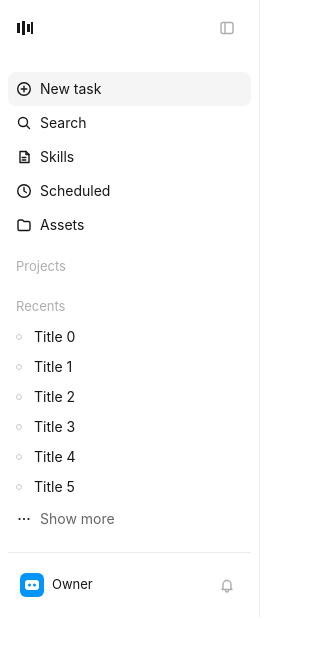
Sidebar › shows six recents, then all after Show more (STORY_021)
This screenshot has width=320, height=660.
Expected: the number of links "Title 0" is 6, [16,328,75,345]; [16,358,72,375]; [16,388,75,405]; [16,418,75,435]; [16,448,76,465]; [16,478,75,495]
Click the button "Show more" at [130, 519], box [8,502,251,536]
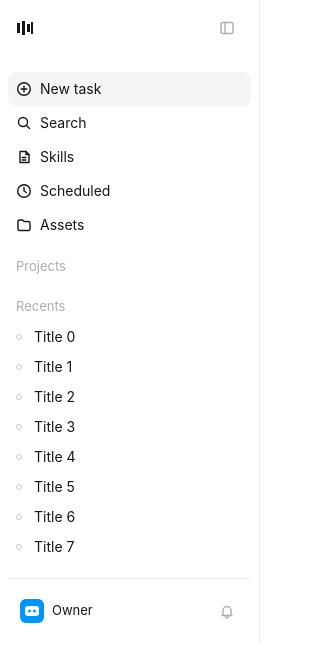
Expected: the number of links "Title 0" is 8
Expected: the button "Show more" is gone
